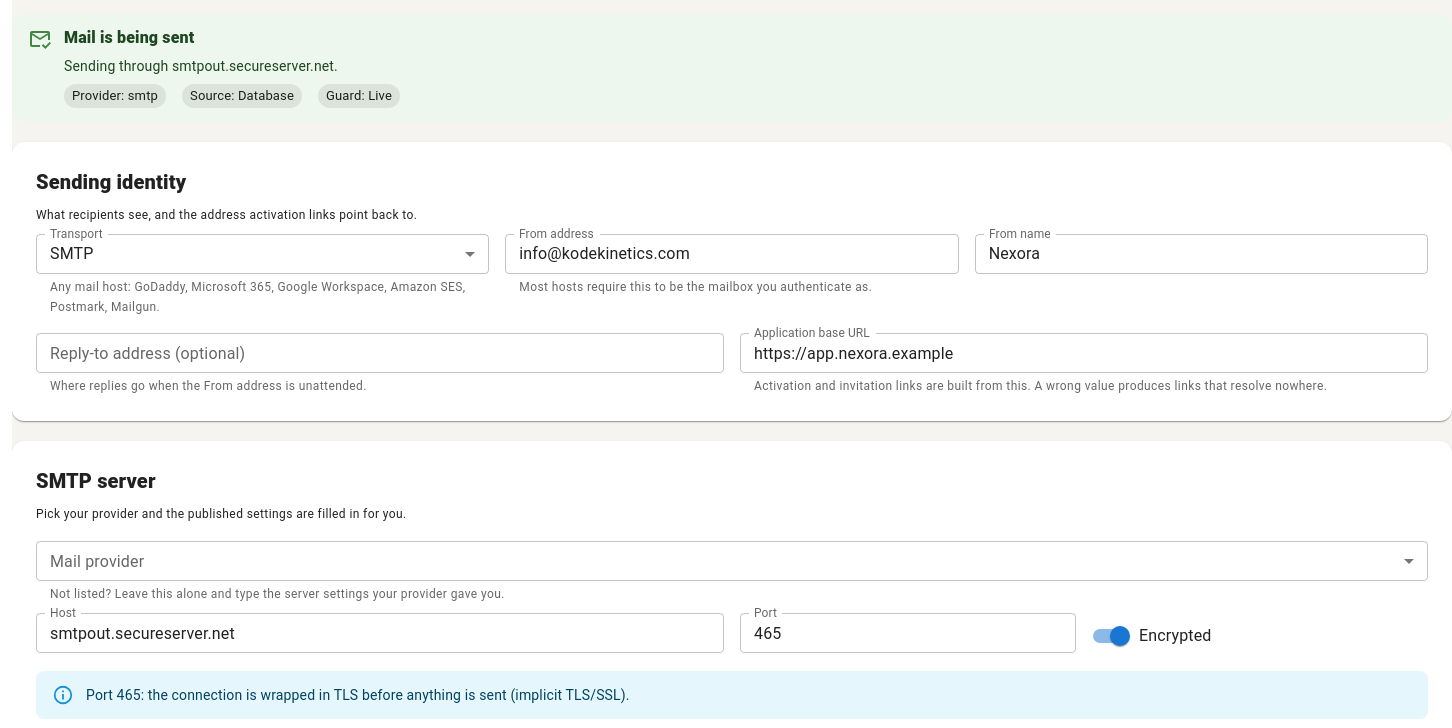
Test case: platform email settings › says why Save is unavailable instead of just disabling it
The image size is (1452, 728).
Check: the field labelled "Host" is shown, box [36, 613, 724, 653]
Replace the text in the number field labelled "Port" with "587" at (908, 633), box [740, 613, 1076, 653]
(page scrolled)
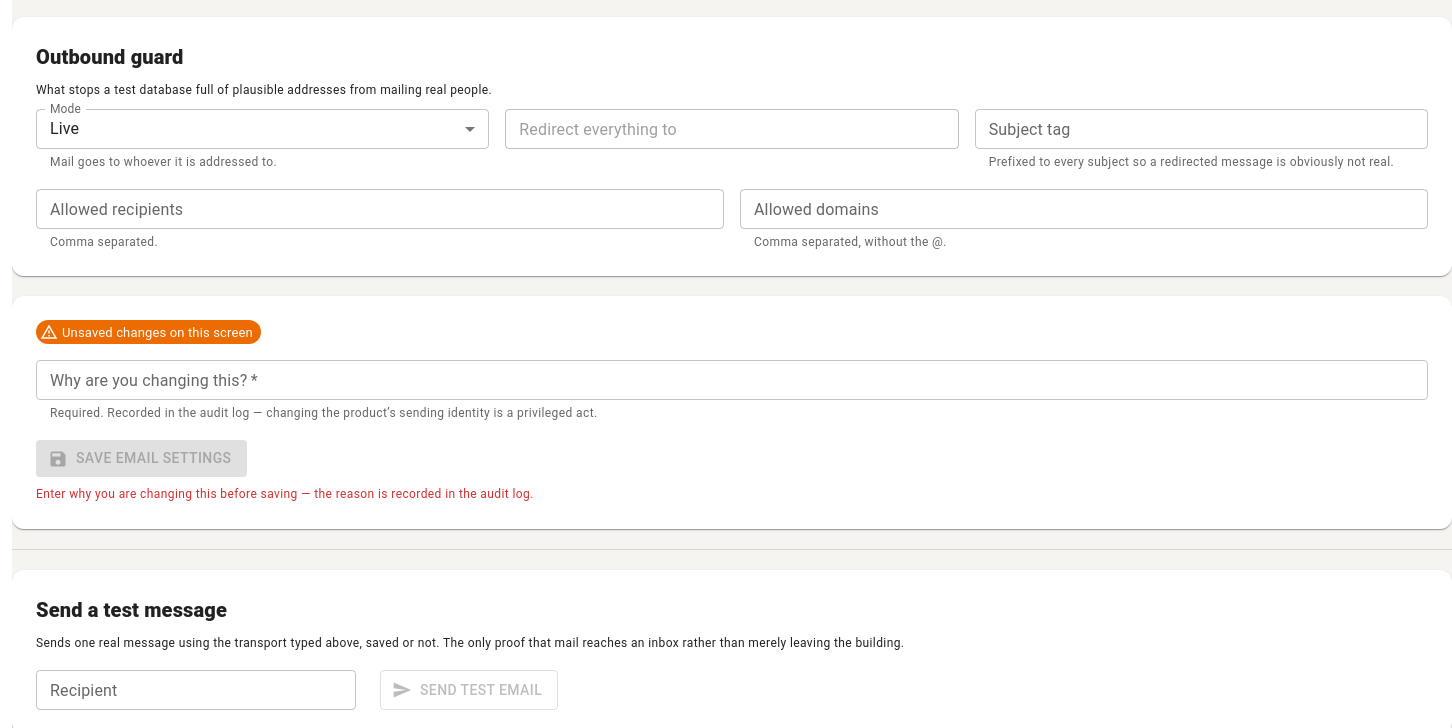
Check: the button "Save email settings" is disabled, box [36, 440, 248, 477]
Check: the text "Enter why you are changing this before saving" is shown, box [36, 487, 534, 501]
Type "Rotating the mailbox password" into the field labelled "Why are you changing this? *".
click(732, 380); type("Rotating the mailbox password")  # box [36, 360, 1428, 400]
(page scrolled)
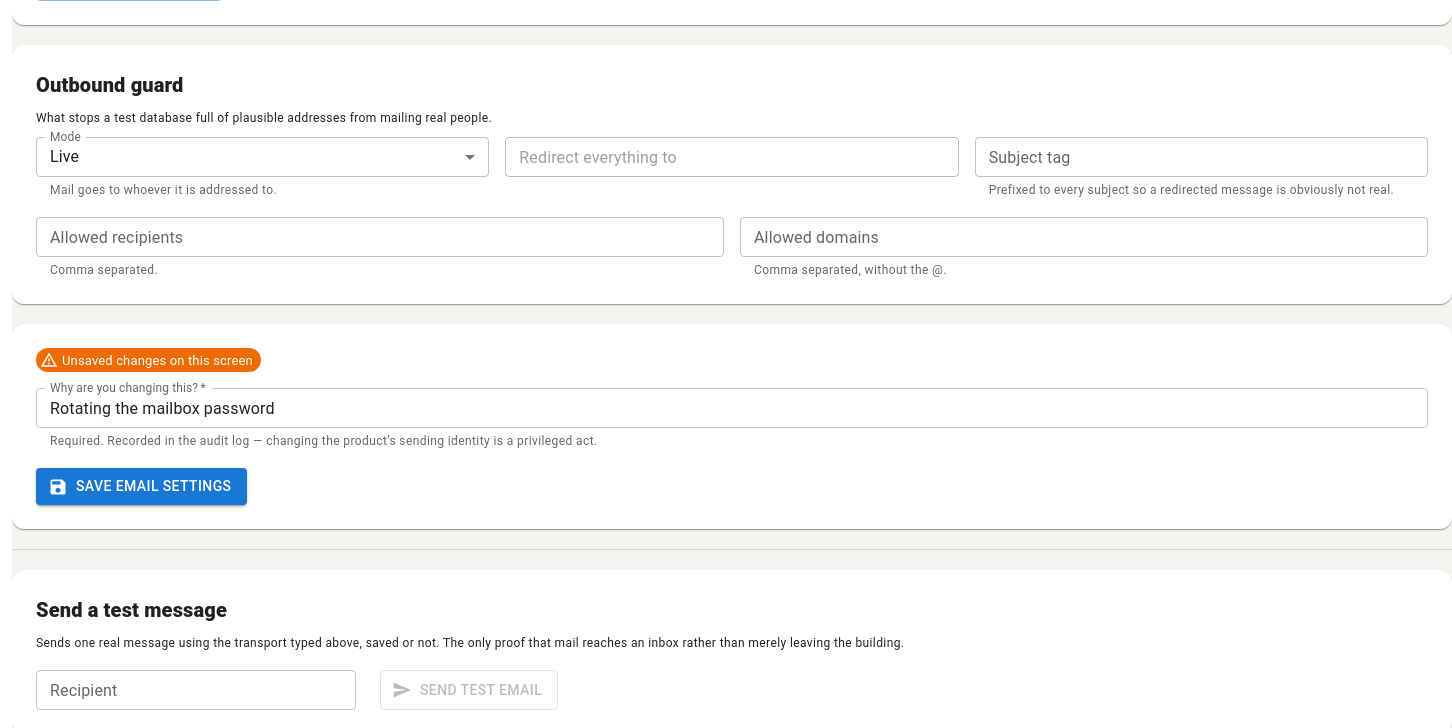
Check: the button "Save email settings" is enabled, box [36, 468, 248, 505]
Check: the text "Enter why you are changing this before saving" is gone
